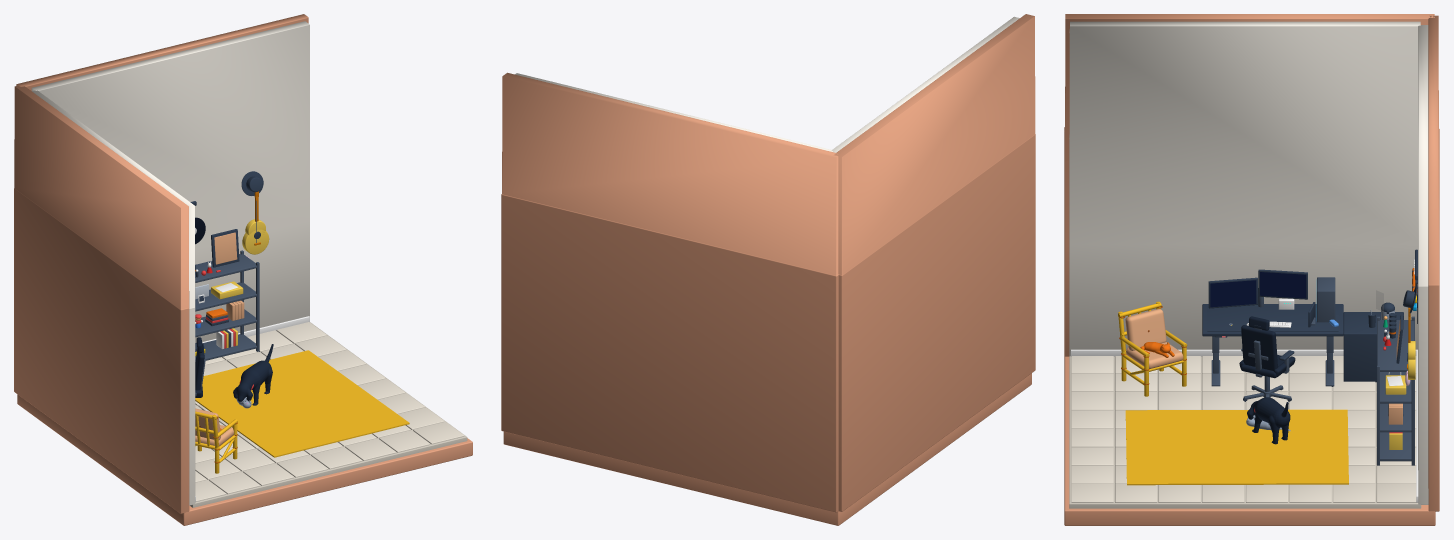
Rendered from Escritorio.glb.
3 renders of one model, left to right at view 1: azimuth 30°, elevation 25°; view 2: azimuth 150°, elevation 25°; view 3: azimuth 270°, elevation 25°, orthographic. The views are drawn at different scales.
Parts seen in each view (by area): view 1: Env_Room_Structure, Room_CozyRug, Furniture_Bookshelf_Frame, Interactive_Shelf_Collectibles, Furniture_BambooArmchair, Interactive_Guitar_Music, Interactive_Shelf_Books_Manga, Pet_BlackDog_Tereza; view 2: Env_Room_Structure; view 3: Env_Room_Structure, Room_CozyRug, Furniture_StandingDesk, Furniture_Bookshelf_Frame, Furniture_BambooArmchair, Furniture_SideCabinet_Drinks, topChairModel, Interactive_PC_Hardware, Pet_BlackDog_Tereza, pcScreenModel, macScreenModel, Interactive_Shelf_Collectibles (+3 smaller).
Part boxes in pixels (x1,y1,x2,y2): Env_Room_Structure: (14,14,472,525); Room_CozyRug: (195,350,409,457); Furniture_Bookshelf_Frame: (195,250,259,361); Interactive_Shelf_Collectibles: (195,229,243,303); Furniture_BambooArmchair: (195,408,237,473); Interactive_Guitar_Music: (241,171,269,254); Interactive_Shelf_Books_Manga: (195,300,244,356); Pet_BlackDog_Tereza: (233,344,273,405); Env_Room_Structure: (501,14,1035,525); Env_Room_Structure: (1064,14,1439,525); Room_CozyRug: (1125,409,1348,485); Furniture_StandingDesk: (1202,304,1343,401); Furniture_Bookshelf_Frame: (1377,316,1414,465); Furniture_BambooArmchair: (1118,301,1187,396); Furniture_SideCabinet_Drinks: (1329,302,1403,382); topChairModel: (1239,316,1295,378); Interactive_PC_Hardware: (1278,277,1335,327); Pet_BlackDog_Tereza: (1247,397,1290,444); pcScreenModel: (1210,280,1256,307); macScreenModel: (1260,272,1306,298); Interactive_Shelf_Collectibles: (1383,313,1406,394).
Size of the model in its own units: 4.73 by 4.93 by 4.73.
